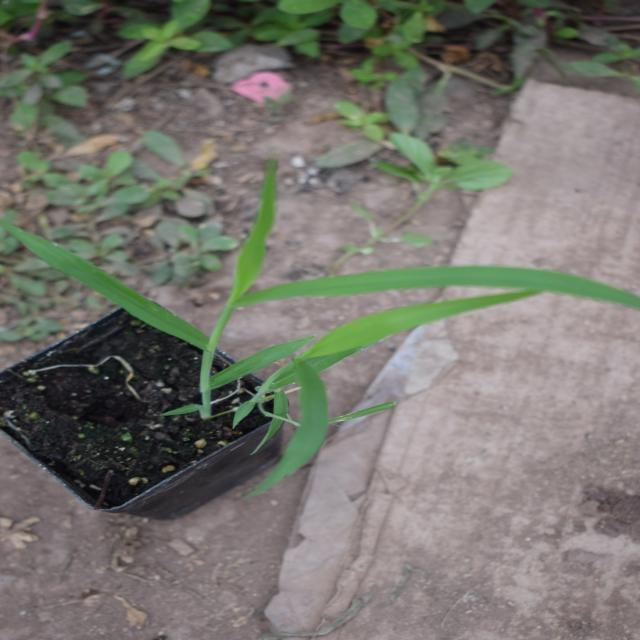crabgrass: (176, 152, 415, 604)
